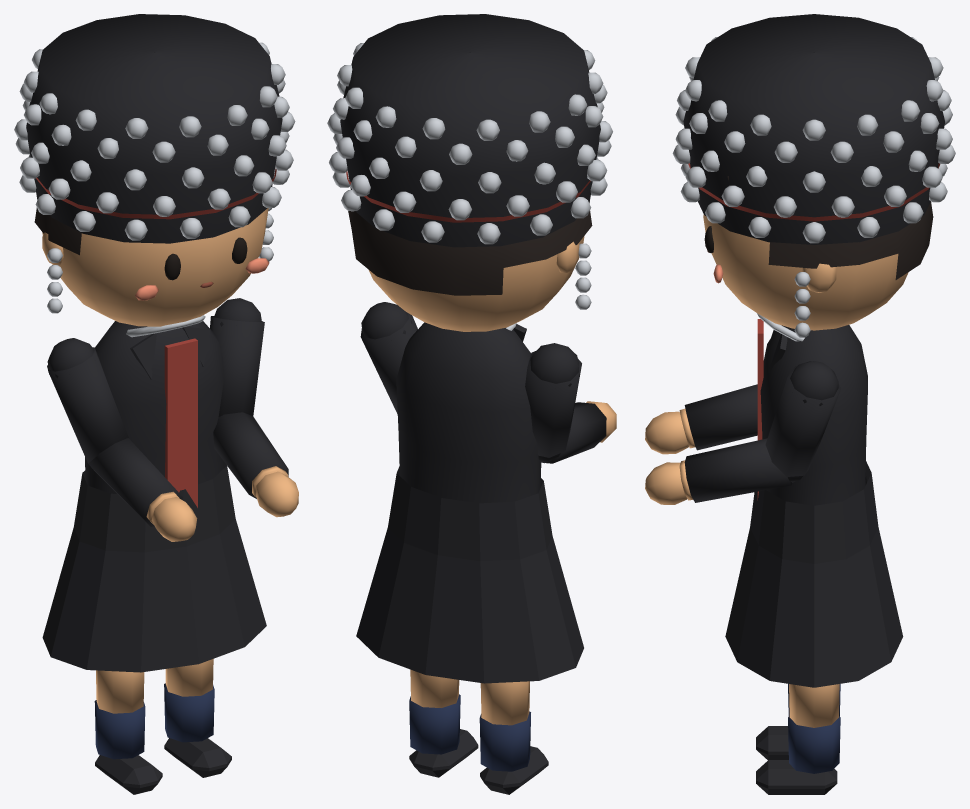
The model's file is north_akha_woman.glb.
3 renders of one model, left to right at view 1: azimuth 30°, elevation 25°; view 2: azimuth 150°, elevation 25°; view 3: azimuth 270°, elevation 25°, orthographic.
Parts seen in each view (by area): view 1: head, body, shin_R, arm_R, shin_L, forearm_R, forearm_L, arm_L; view 2: head, body, shin_R, shin_L, arm_R, arm_L, forearm_R; view 3: head, body, shin_L, forearm_L, arm_L, forearm_R, shin_R.
Part boxes in pixels (x1,y1,x2,y2): head: [14, 14, 295, 326]; body: [42, 315, 266, 672]; shin_R: [94, 670, 162, 794]; arm_R: [47, 338, 128, 463]; shin_L: [164, 659, 231, 777]; forearm_R: [88, 438, 197, 541]; forearm_L: [213, 412, 298, 517]; arm_L: [210, 298, 264, 416]; head: [327, 14, 612, 331]; body: [356, 322, 583, 683]; shin_R: [479, 681, 548, 794]; shin_L: [409, 669, 478, 777]; arm_R: [525, 343, 581, 463]; arm_L: [360, 302, 417, 413]; forearm_R: [538, 401, 616, 463]; head: [672, 14, 955, 337]; body: [725, 313, 903, 687]; shin_L: [756, 684, 840, 794]; forearm_L: [645, 438, 797, 504]; arm_L: [765, 361, 841, 482]; forearm_R: [645, 384, 757, 454]; shin_R: [756, 684, 840, 759].
Bounding box in the file's own units: 0.5578 × 1.58 × 0.6172.
